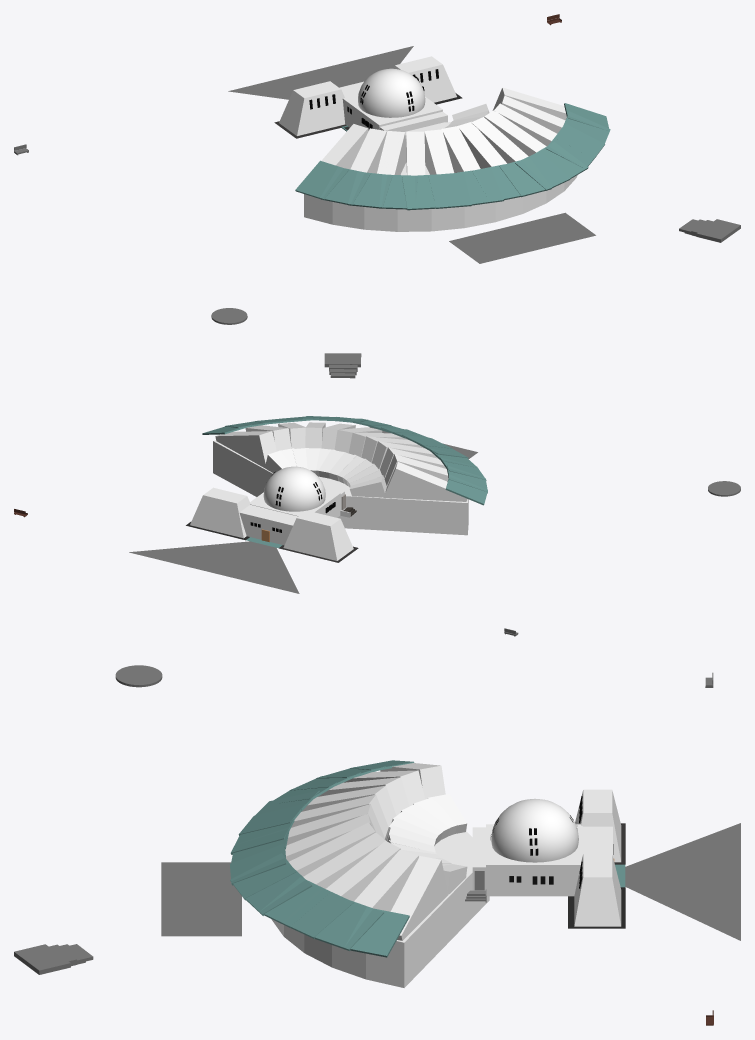
Rendered from asmundarsafn_cpy_to_test_14.obj.
The picture shows the model from 3 angles, top to bottom: view 1: azimuth 30°, elevation 25°; view 2: azimuth 150°, elevation 25°; view 3: azimuth 270°, elevation 25°; orthographic projection. The views are drawn at different scales.
Visible parts, largest first — view 1: Cube.047, Cube.033, syningarsalur, Plane.035, pavement, Sphere, h_hlid, v_hlid, innanhus, Cube, Cube.019, Cylinder; view 2: Cube.033, syningarsalur, pavement, Cube.047, h_hlid, Sphere, v_hlid, adaldyr, Cube, innanhus; view 3: Cube.033, Cube.047, pavement, syningarsalur, Plane.035, Sphere, innanhus, v_hlid, h_hlid, Cube, adaldyr, Cylinder (+1 smaller).
Part boxes in pixels (x1,y1,x2,y2): Cube.047: (295, 103, 610, 210); Cube.033: (321, 87, 566, 175); syningarsalur: (304, 122, 577, 231); Plane.035: (449, 212, 595, 263); pavement: (228, 46, 413, 99); Sphere: (358, 68, 425, 117); h_hlid: (279, 81, 344, 135); v_hlid: (393, 56, 456, 102); innanhus: (342, 94, 442, 130); Cube: (679, 219, 740, 242); Cube.019: (379, 111, 447, 131); Cylinder: (211, 308, 247, 324); Cube.033: (215, 422, 467, 501); syningarsalur: (213, 440, 468, 535); pavement: (129, 541, 299, 593); Cube.047: (202, 416, 487, 505); h_hlid: (283, 510, 353, 560); Sphere: (263, 466, 325, 511); v_hlid: (190, 487, 250, 538); adaldyr: (239, 505, 297, 545); Cube: (324, 353, 361, 378); innanhus: (250, 489, 340, 517); Cube.033: (285, 763, 467, 940); Cube.047: (229, 760, 414, 957); pavement: (625, 823, 740, 940); syningarsalur: (271, 831, 489, 987); Plane.035: (161, 862, 241, 936); Sphere: (491, 798, 578, 862); innanhus: (486, 824, 582, 896); v_hlid: (574, 854, 621, 926); h_hlid: (575, 789, 621, 862); Cube: (14, 944, 93, 974); adaldyr: (582, 826, 612, 855); Cylinder: (115, 665, 162, 687).
Bounding box in the file's own units: 72.47 × 9.13 × 62.03.
